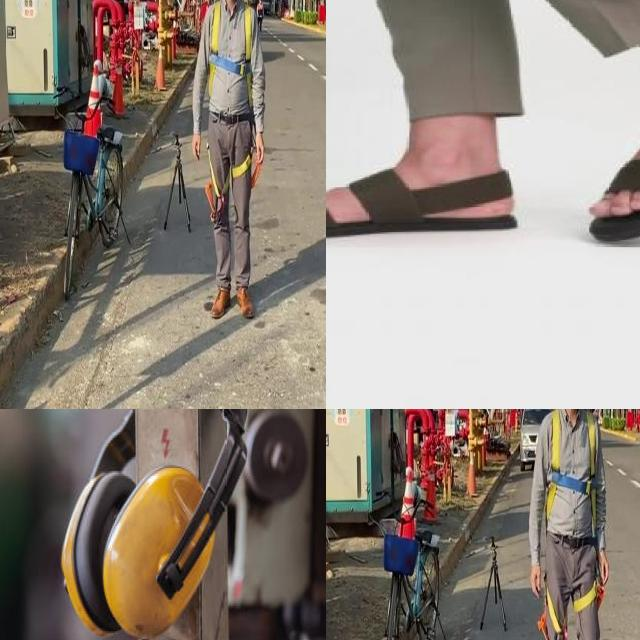Ear-protection: (54, 409, 281, 640)
Harness: (547, 409, 597, 538), (209, 1, 253, 108), (205, 156, 252, 217)
Sandals: (326, 121, 522, 247), (584, 23, 640, 256)
